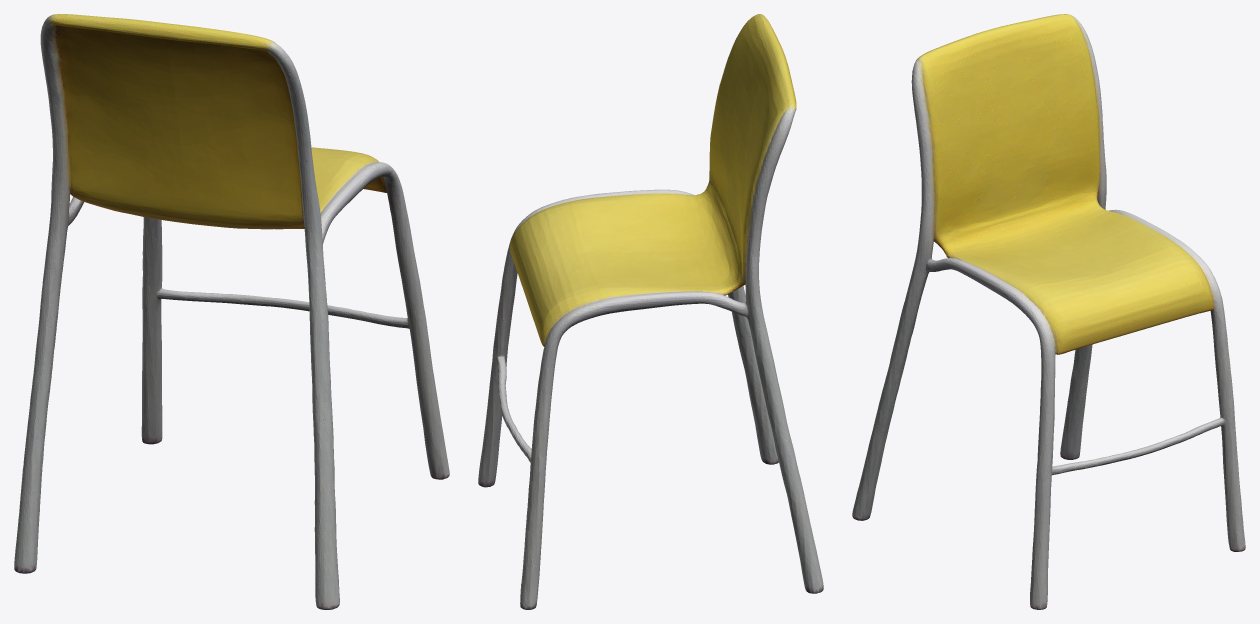
The model's file is light-colored_wooden_chair_at_far_right_table_000.glb.
The picture shows the model from 3 angles, left to right: view 1: azimuth 30°, elevation 25°; view 2: azimuth 150°, elevation 25°; view 3: azimuth 270°, elevation 25°; orthographic projection. The views are drawn at different scales.
Visible parts, largest first — view 1: light-colored_wooden_chair_at_far_right_table_000.obj; view 2: light-colored_wooden_chair_at_far_right_table_000.obj; view 3: light-colored_wooden_chair_at_far_right_table_000.obj.
Part boxes in pixels (x1=…): light-colored_wooden_chair_at_far_right_table_000.obj: x1=14, y1=14, x2=449, y2=609; light-colored_wooden_chair_at_far_right_table_000.obj: x1=478, y1=14, x2=823, y2=609; light-colored_wooden_chair_at_far_right_table_000.obj: x1=852, y1=14, x2=1245, y2=609.
Size of the model in its own units: 0.2691 by 0.3494 by 0.268.
1 material, 1 textured.
